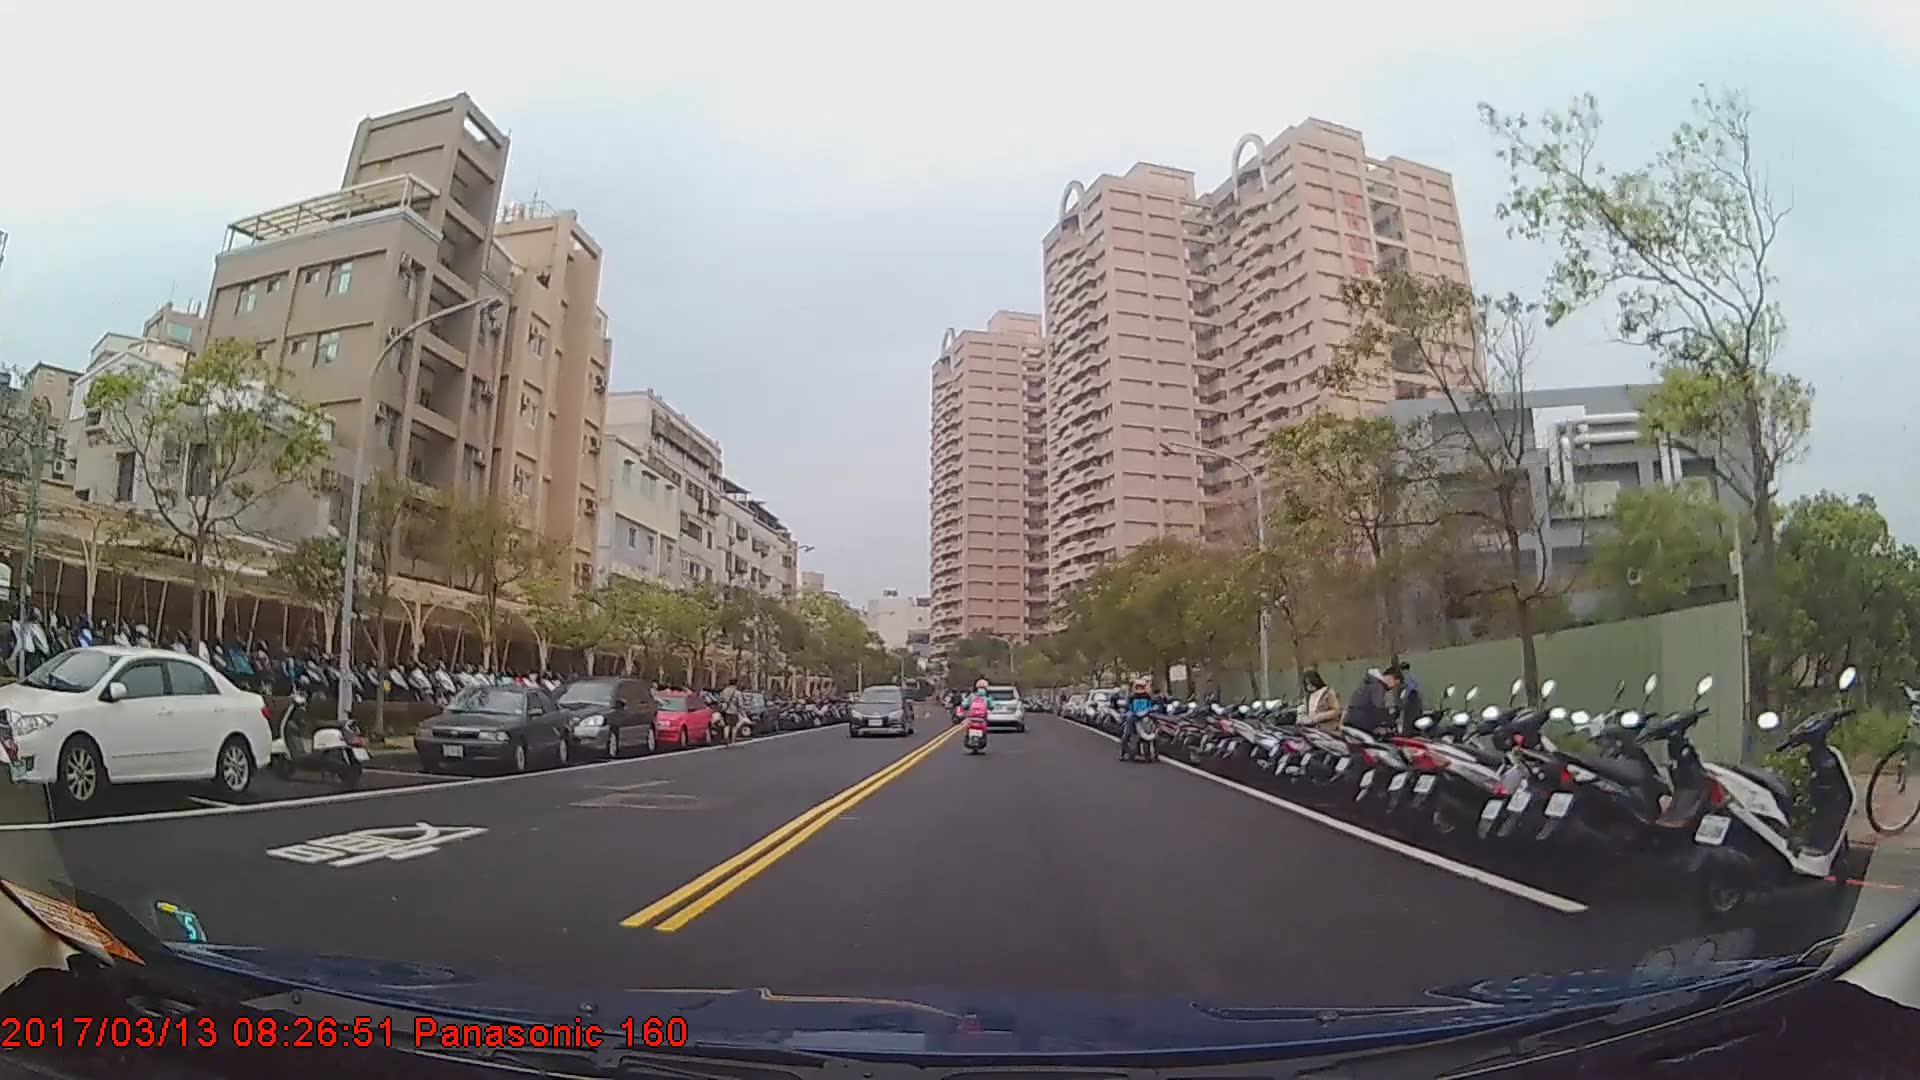pedestrian: (1343, 663, 1413, 810), (1297, 670, 1351, 803), (1395, 666, 1428, 755), (717, 678, 748, 751)
rider: (1118, 678, 1162, 766), (963, 680, 994, 749)
vehicle: (0, 642, 273, 802), (410, 684, 571, 777), (543, 679, 658, 763), (624, 688, 712, 748), (848, 684, 914, 739), (970, 685, 1024, 734)
